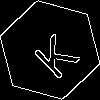K: (25, 25, 81, 82)
